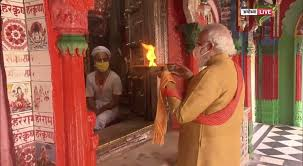Caution: (91, 24, 244, 166)
